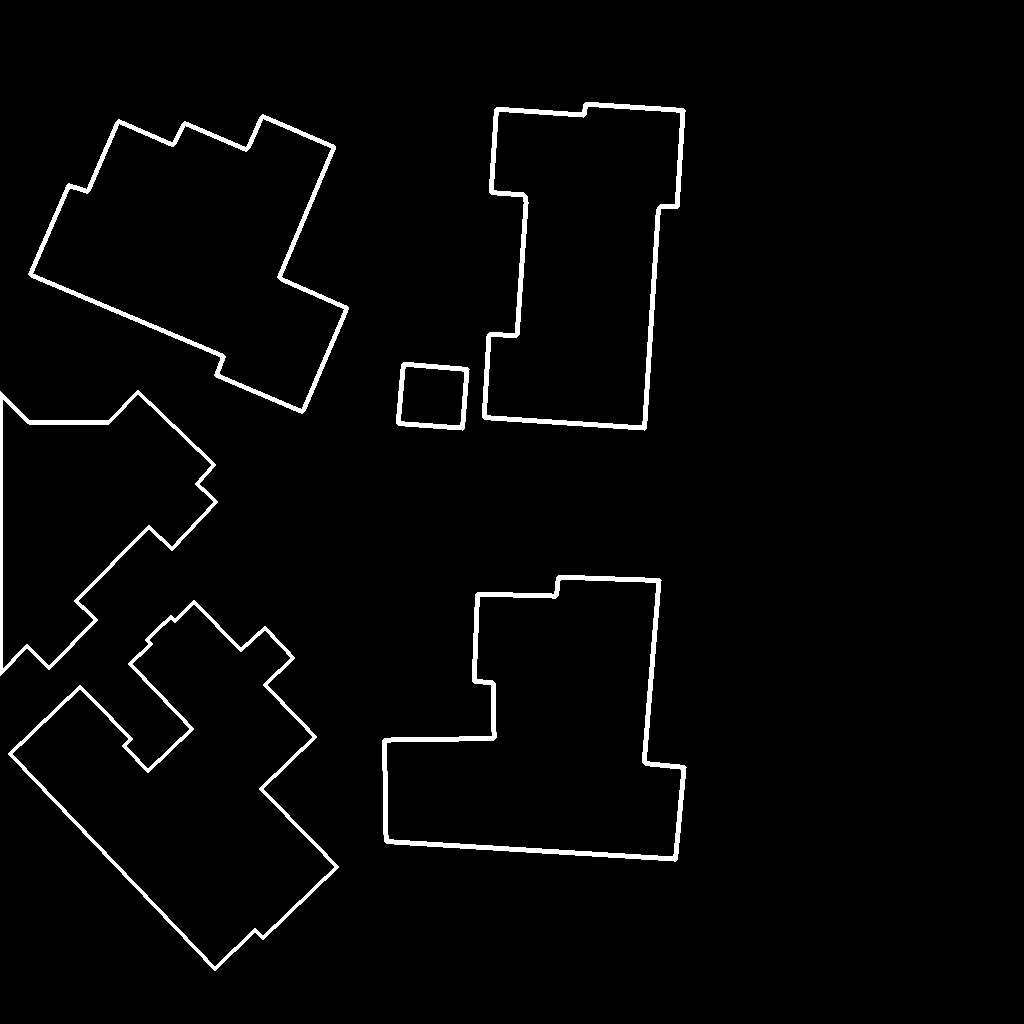building: (10, 602, 338, 970), (30, 116, 348, 413), (384, 577, 685, 860), (484, 104, 684, 429), (0, 392, 217, 675), (398, 364, 468, 429)
